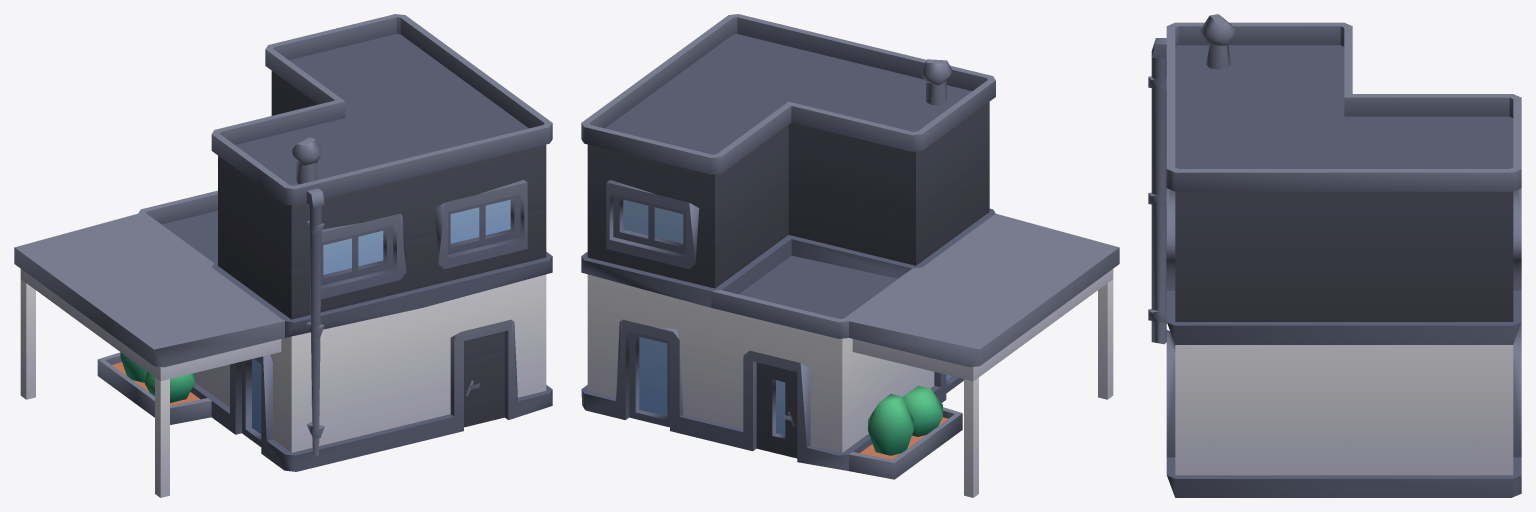
The model's file is 070_city-kit-suburban_building-type-q_card.glb.
The picture shows the model from 3 angles, left to right: view 1: azimuth 30°, elevation 25°; view 2: azimuth 150°, elevation 25°; view 3: azimuth 270°, elevation 25°; orthographic projection. The views are drawn at different scales.
Parts seen in each view (by area): view 1: building-type-q; view 2: building-type-q; view 3: building-type-q.
Boxes of the visible parts, left/top/right/bottom form: building-type-q: left=14, top=14, right=552, bottom=497; building-type-q: left=581, top=14, right=1119, bottom=497; building-type-q: left=1148, top=14, right=1521, bottom=497.
Size of the model in its own units: 1.24 by 0.918 by 0.8836.
Materials: 1 (1 with a texture image).
